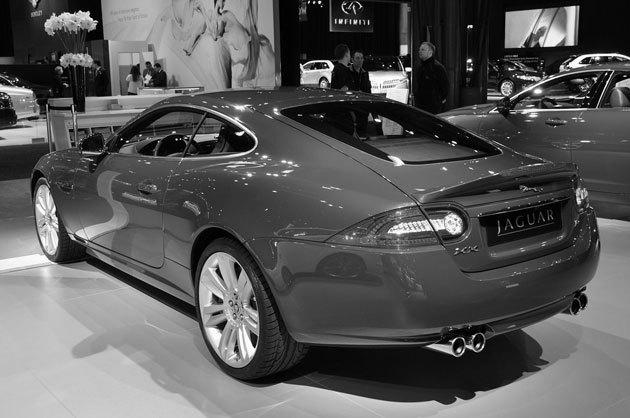car: (29, 86, 603, 388)
